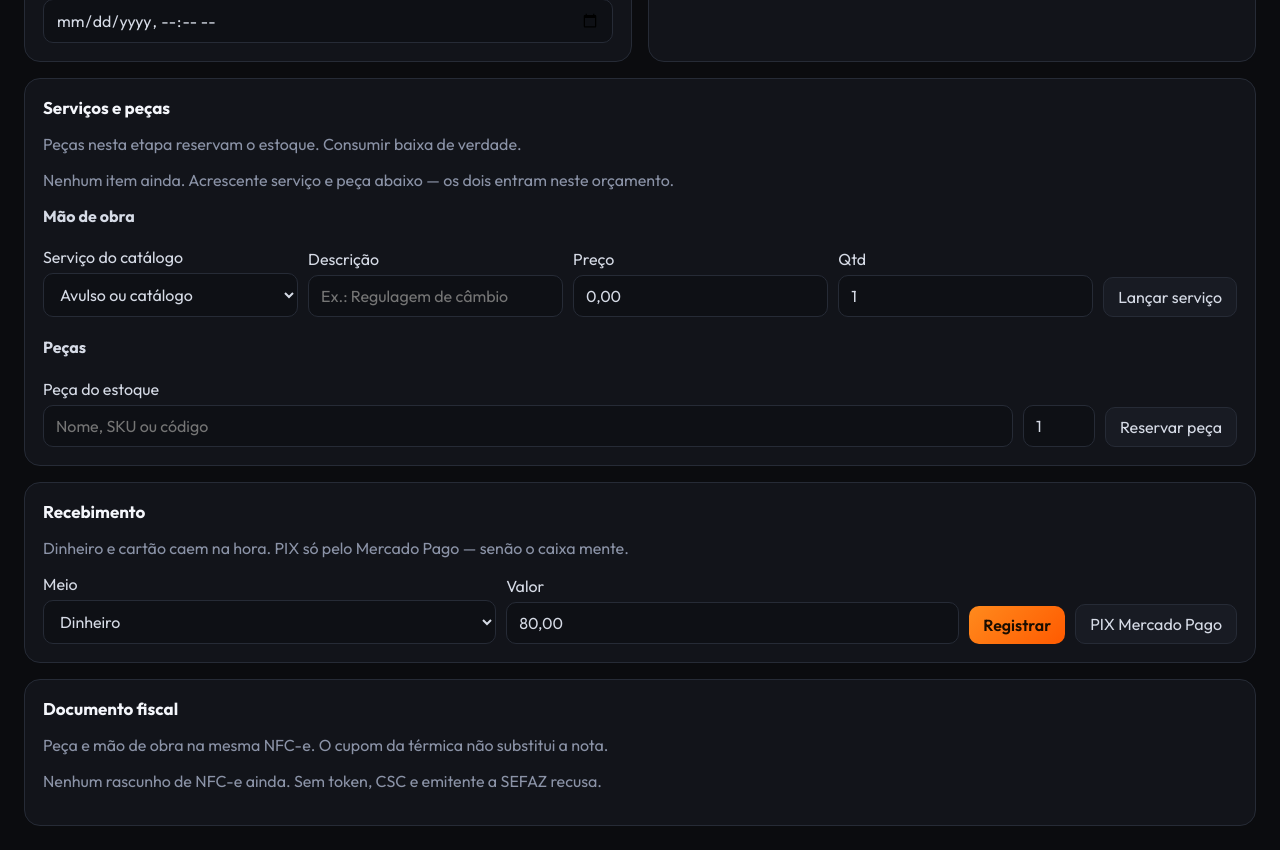
Scenario: OS pronta › mostra o 409 do PIX sem deixar a promessa sem tratamento
(page scrolled)
Click the button "PIX Mercado Pago". click: point(1156, 624)
box: [1075,604,1237,644]
(page scrolled)
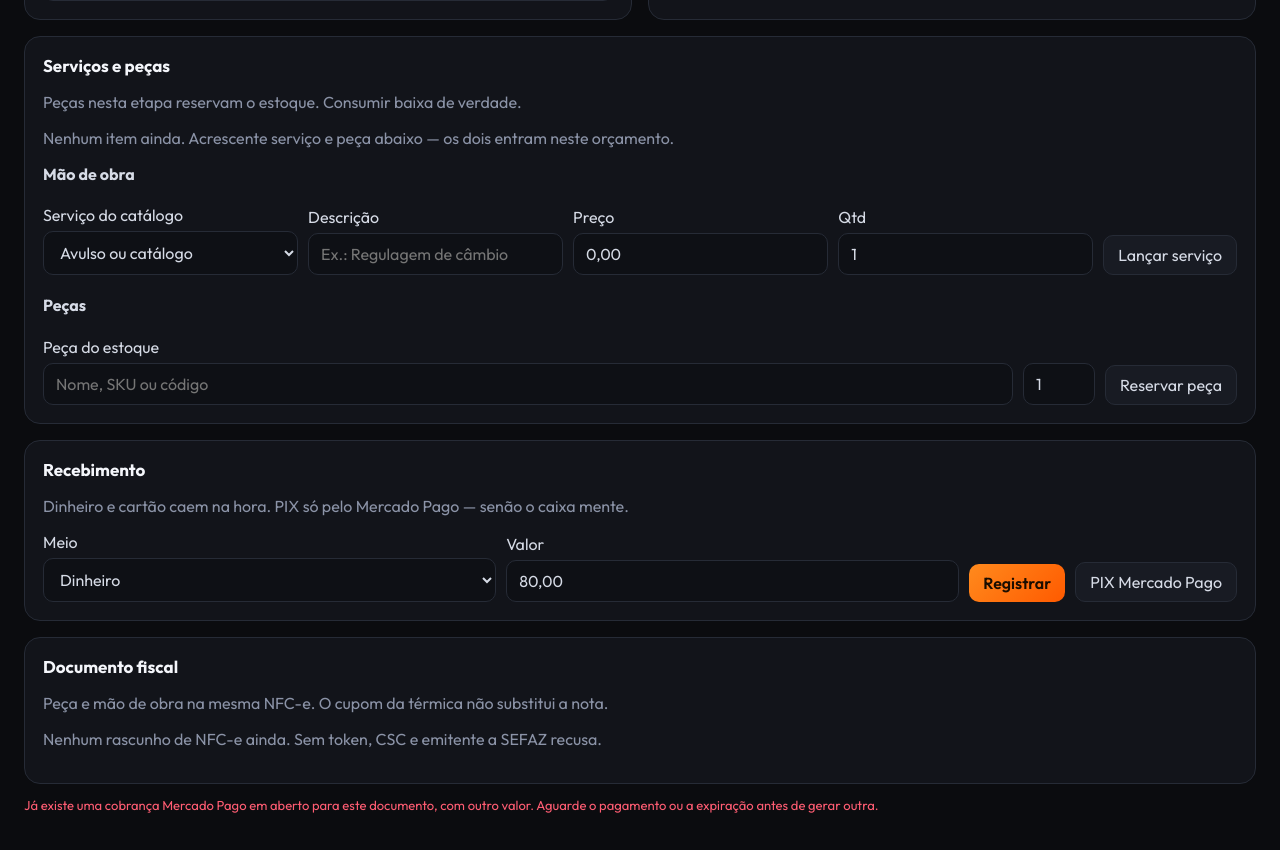
expect the text "Já existe uma cobrança Mercado Pago" is shown: met, box [24,796,878,812]
